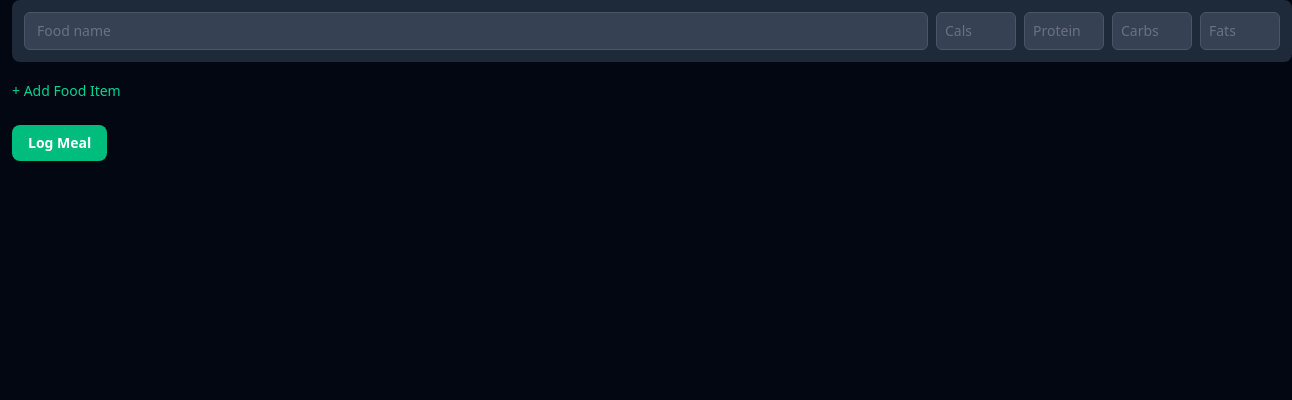
Test: MealForm › adding food items › can add multiple food items
Click the button "+ Add Food Item" at (66, 91), box [12,81,121,101]
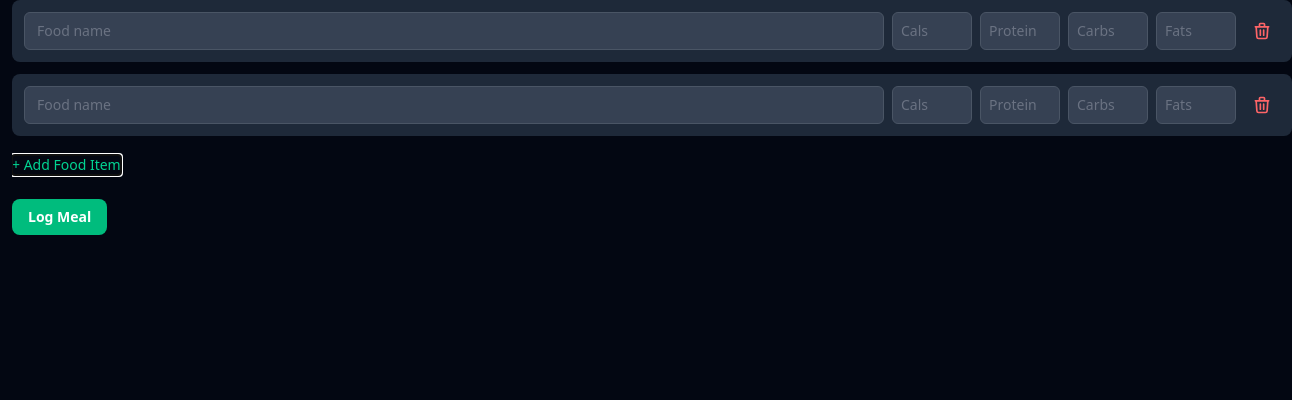
Click the button "+ Add Food Item" at (66, 165), box [12,155,121,175]
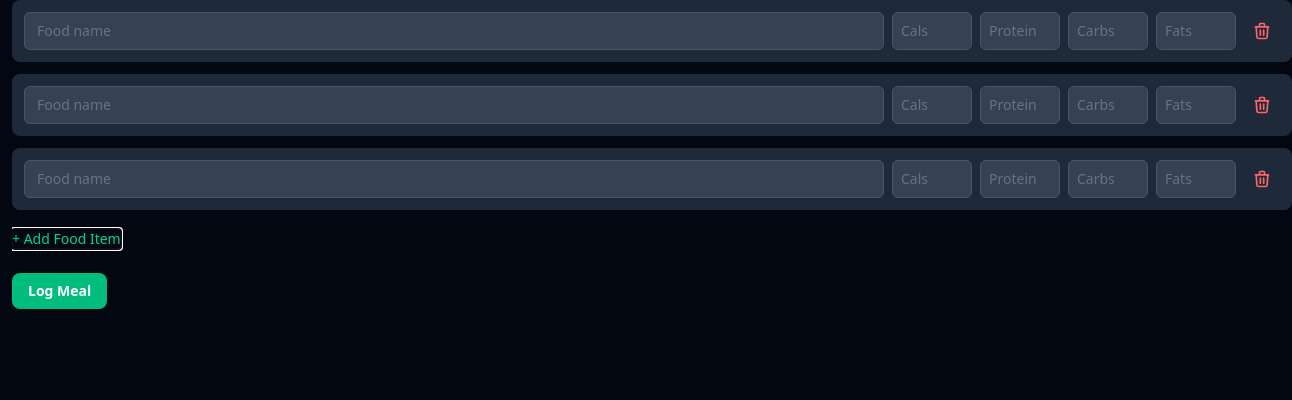
Click the button "+ Add Food Item" at (66, 239), box [12,229,121,249]
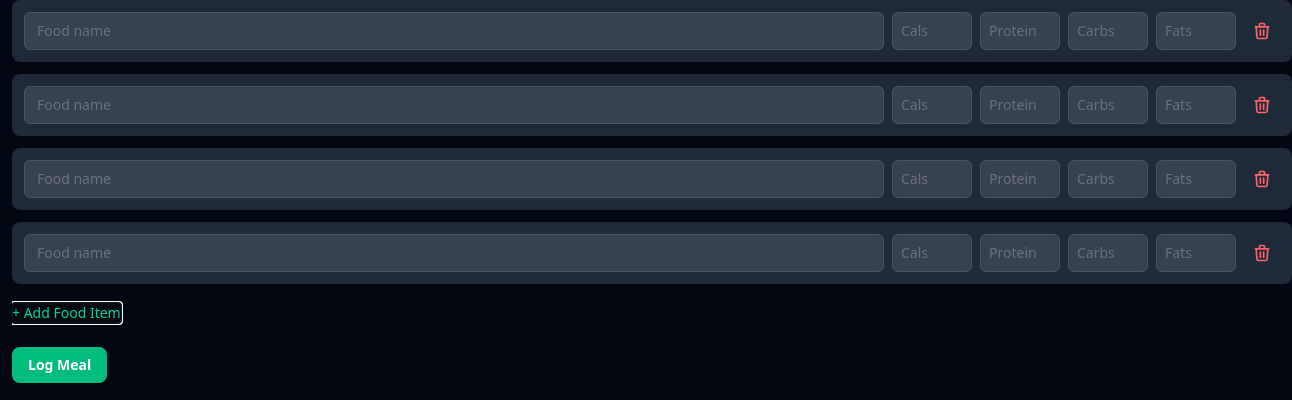
Result: the number of fields with placeholder "Food name" is 4 at [24,12,884,50]; [24,86,884,124]; [24,160,884,198]; [24,234,884,272]
